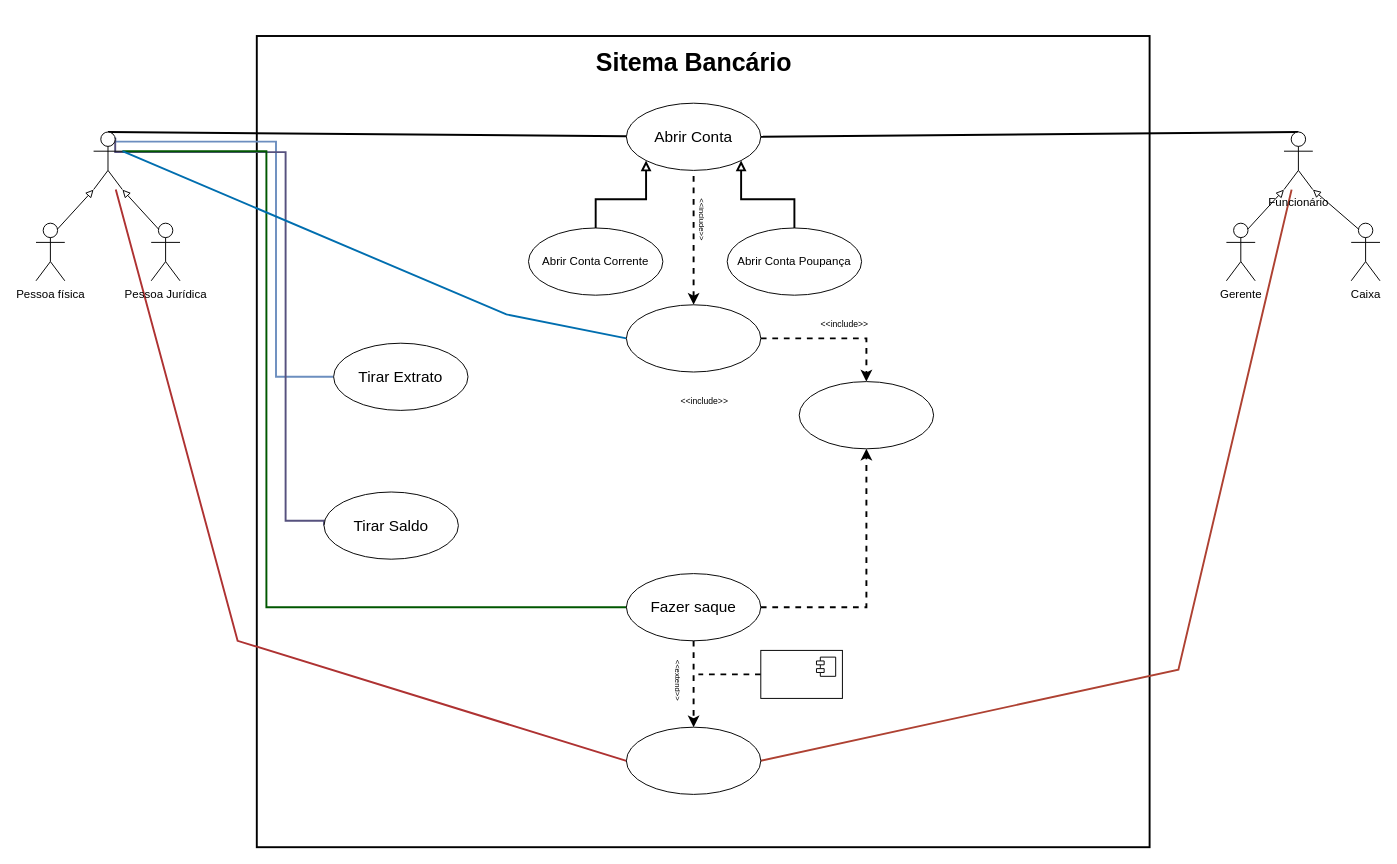
Image size: 1397x864. Some labels were removed from this diagram. The centre of each missing label's shape, as x and y in pixels:
"Cliente" goes at point 107,160.
"Encerrar Conta" goes at point 693,760.
"Fazer Depósito" goes at point 693,338.
"Registrar Transação" goes at point 866,415.
"Se Houver Saldo" goes at point 801,673.
